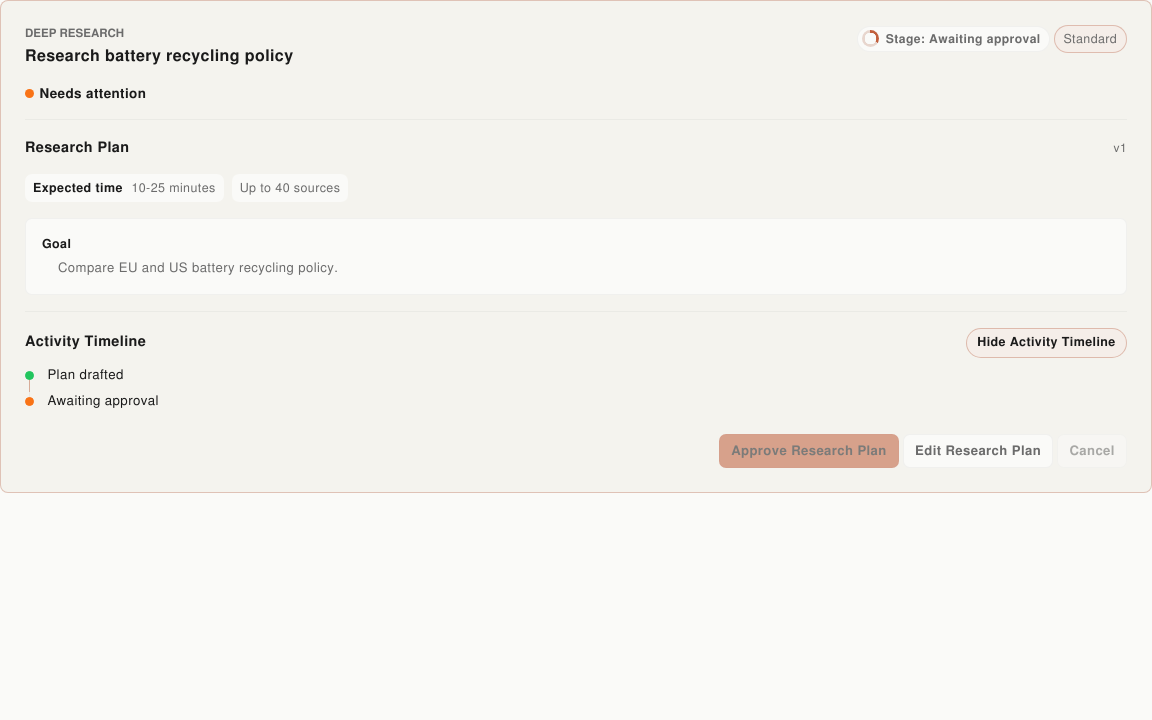
Test: ResearchCard › lets the user submit a freeform Plan Edit while awaiting approval
Expected: the field labelled "Edit plan instructions" is not shown
Click the button "Edit Research Plan" at (978, 451), box [903,434,1053,468]
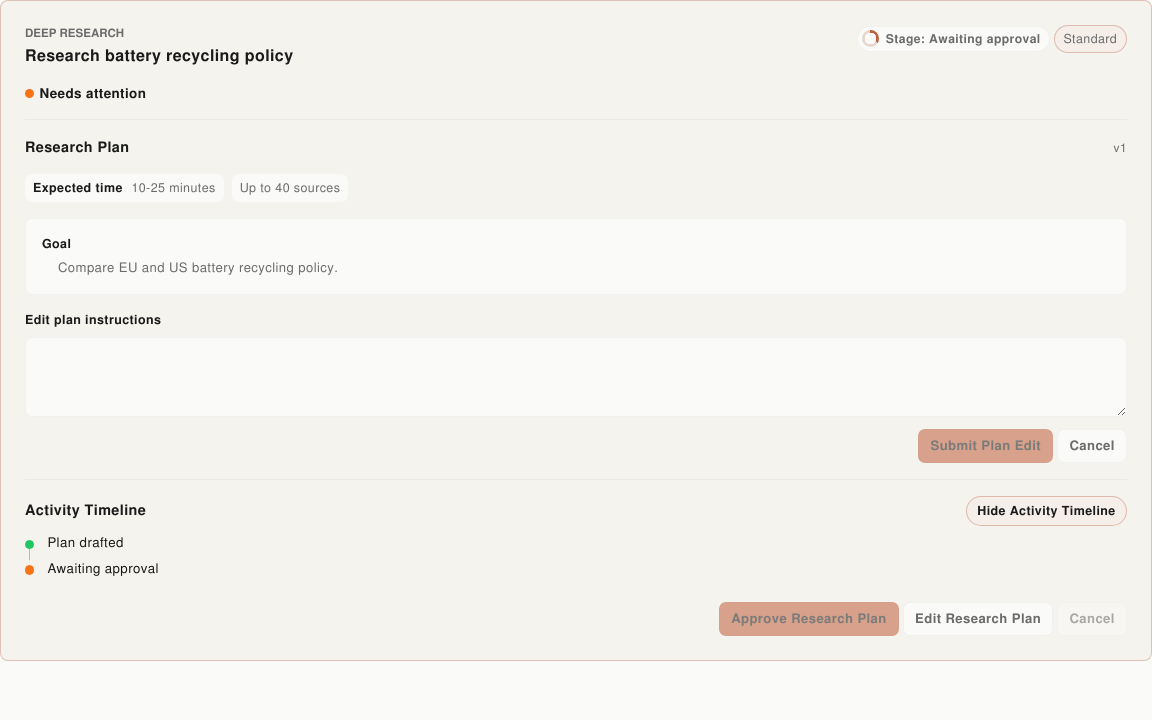
Type "Focus more on EU enforcement and recent recycling targets." into the text box labelled "Edit plan instructions" at (576, 377), box [25,337,1127,417]
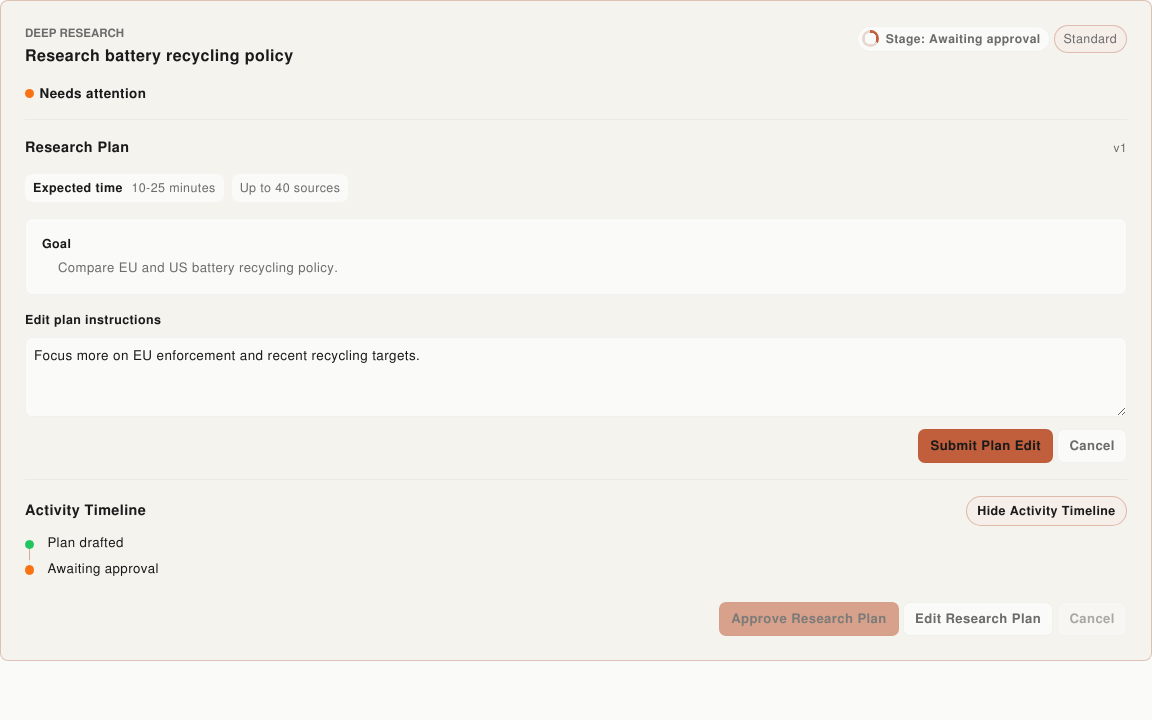
Click the button "Submit Plan Edit" at (986, 446), box [918,429,1053,463]
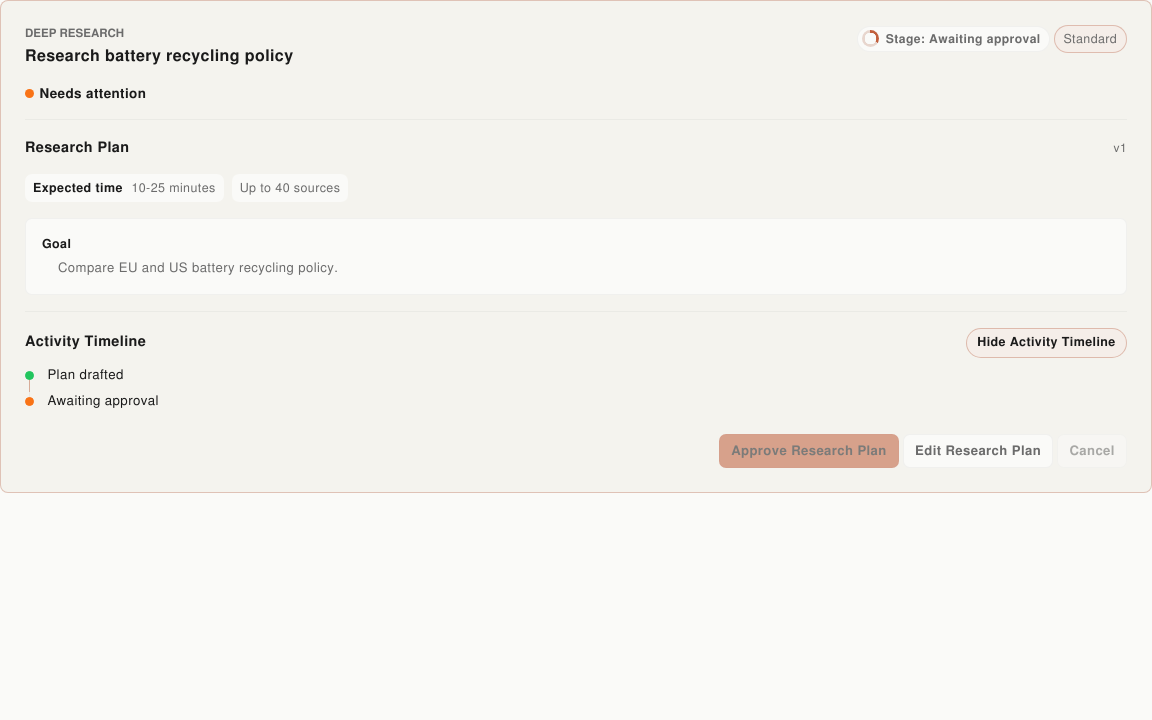
Expected: the label labelled "Edit plan instructions" is gone
